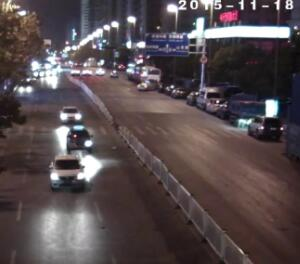bus: (134, 62, 162, 85), (125, 60, 139, 80)
car: (47, 153, 88, 192), (225, 90, 267, 125), (247, 113, 282, 140), (65, 125, 94, 153), (195, 87, 222, 112), (58, 103, 83, 122), (205, 96, 224, 114), (137, 77, 159, 91), (16, 80, 34, 96), (168, 85, 185, 99), (186, 89, 196, 103), (68, 67, 81, 77), (109, 68, 120, 79), (80, 67, 92, 77), (33, 66, 45, 76), (95, 67, 106, 77), (165, 84, 173, 94)
